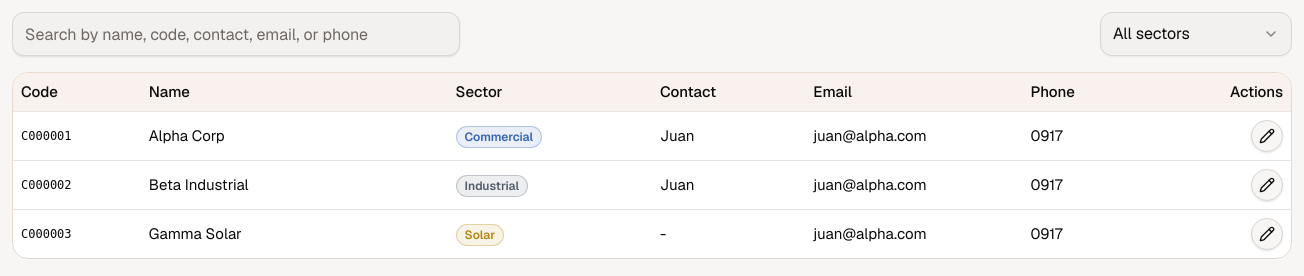
Test: ClientsTable › filters by sector via the sector select
Click the dropdown named "Filter clients by sector": (1196, 34) top-left (1100, 12), bottom-right (1292, 56)
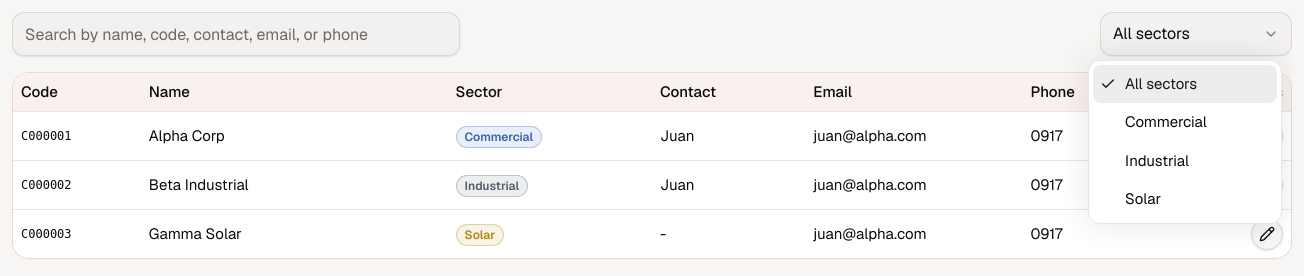
Click the option "Solar": (1143, 199) top-left (1125, 189), bottom-right (1161, 208)
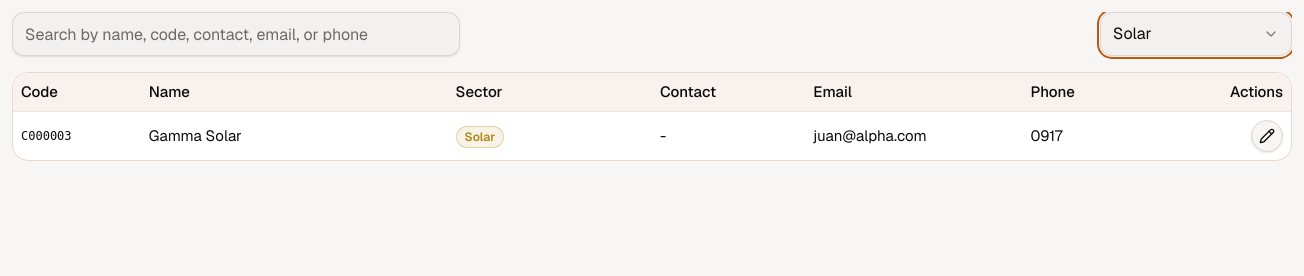
Expected: the text "Gamma Solar" is shown 2 times
Expected: the button "Alpha Corp" is gone
